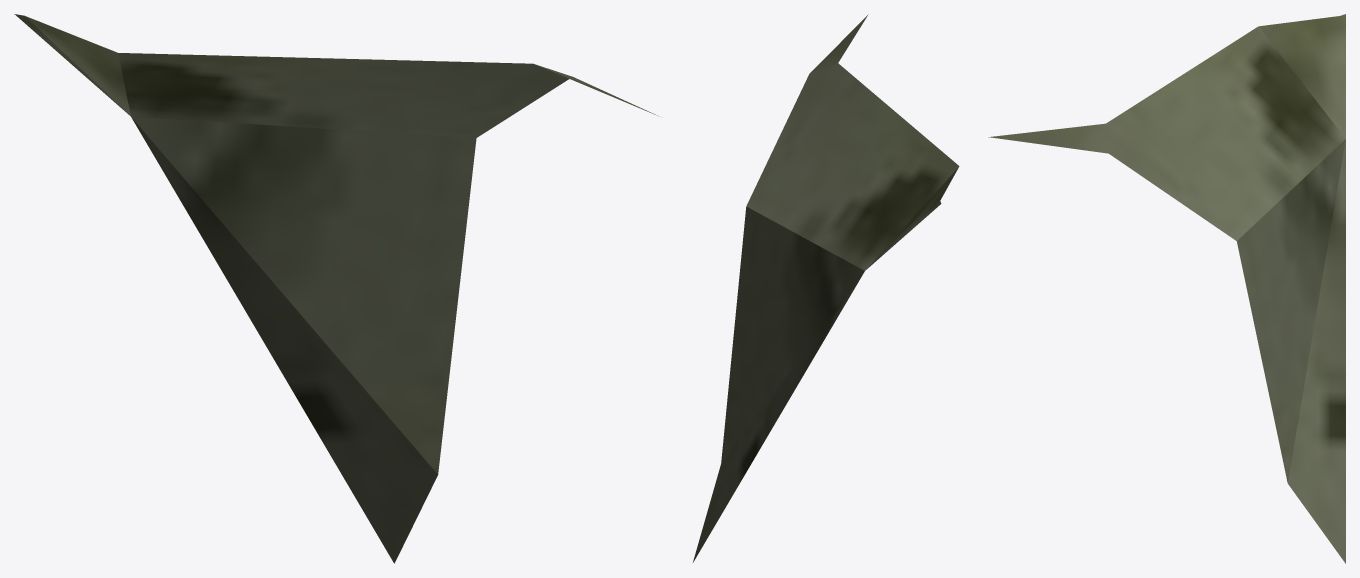
3 views of the same model, side by side, from view 1: azimuth 30°, elevation 25°; view 2: azimuth 150°, elevation 25°; view 3: azimuth 270°, elevation 25° (orthographic). The views are drawn at different scales.
Bounding box in the file's own units: 0.241 × 0.3893 × 0.2957.
1 material, 1 textured.
